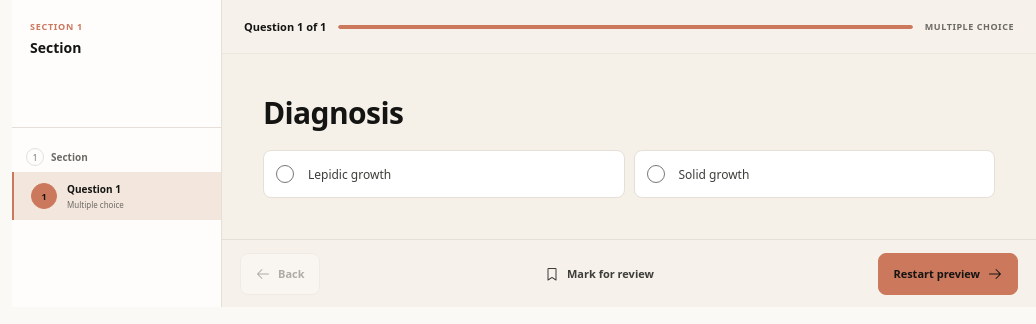
Test: renders dropdown answers as visible selectable choices in learner preview
The image size is (1036, 324).
Check: the element named "Answer" is shown, box left=263, top=150, right=995, bottom=198
Click the radio button labelled "Solid growth" at coordinates (656, 174), box left=646, top=165, right=664, bottom=183
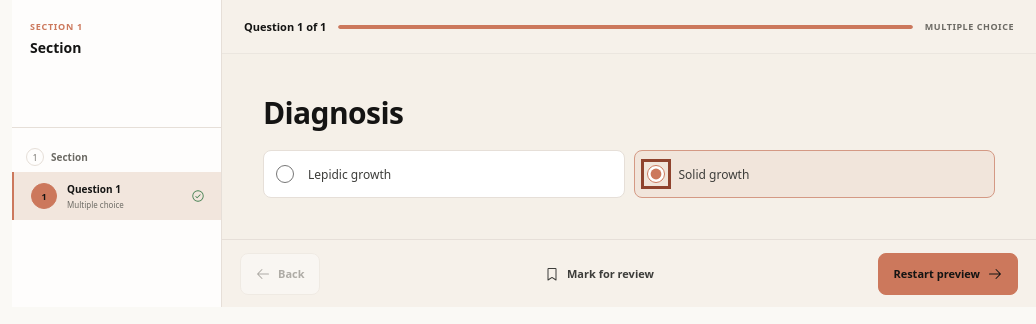
Check: the radio button labelled "Solid growth" is checked, box left=646, top=165, right=664, bottom=183
Check: the icon named "Answered" is shown, box left=191, top=189, right=205, bottom=203
